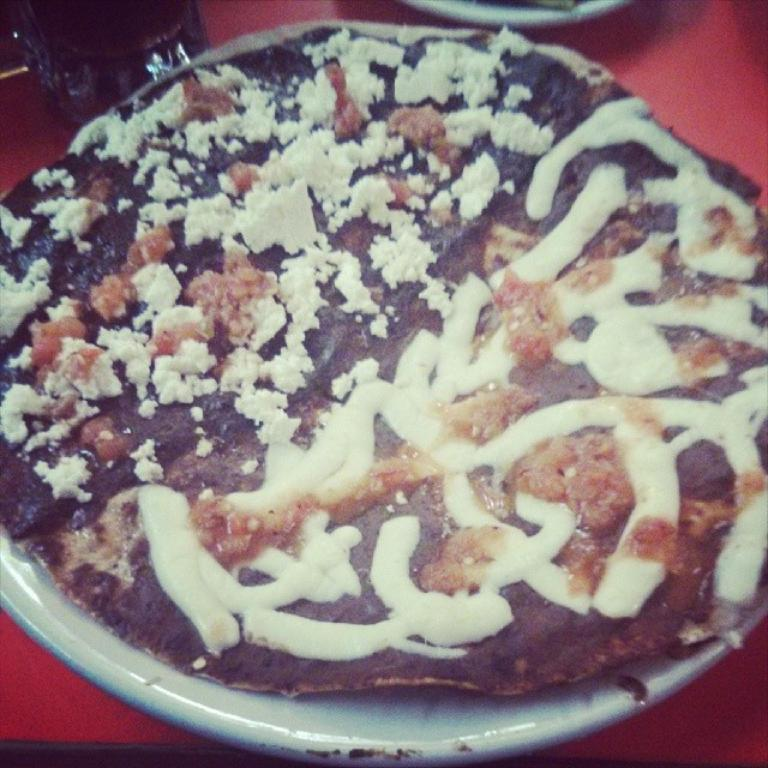Pizza: (0, 66, 768, 741)
